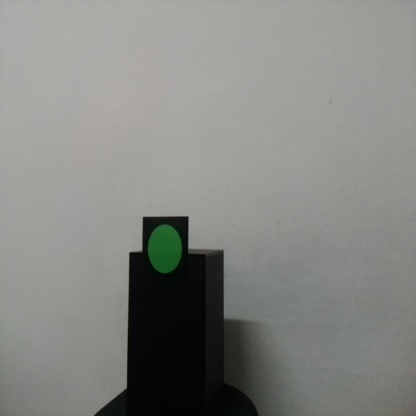id_5: (141, 217, 188, 285)
